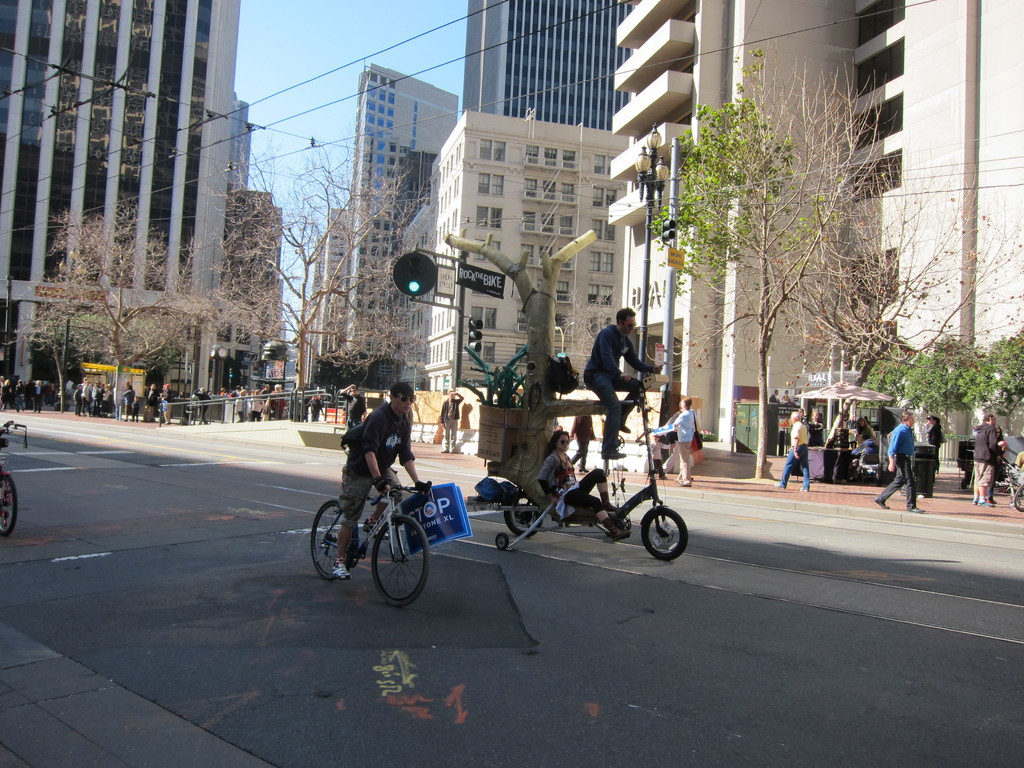Bike_toward: (308, 462, 434, 609)
